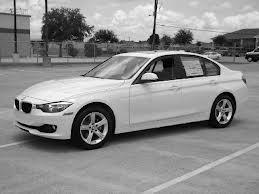car: (14, 52, 252, 149)
